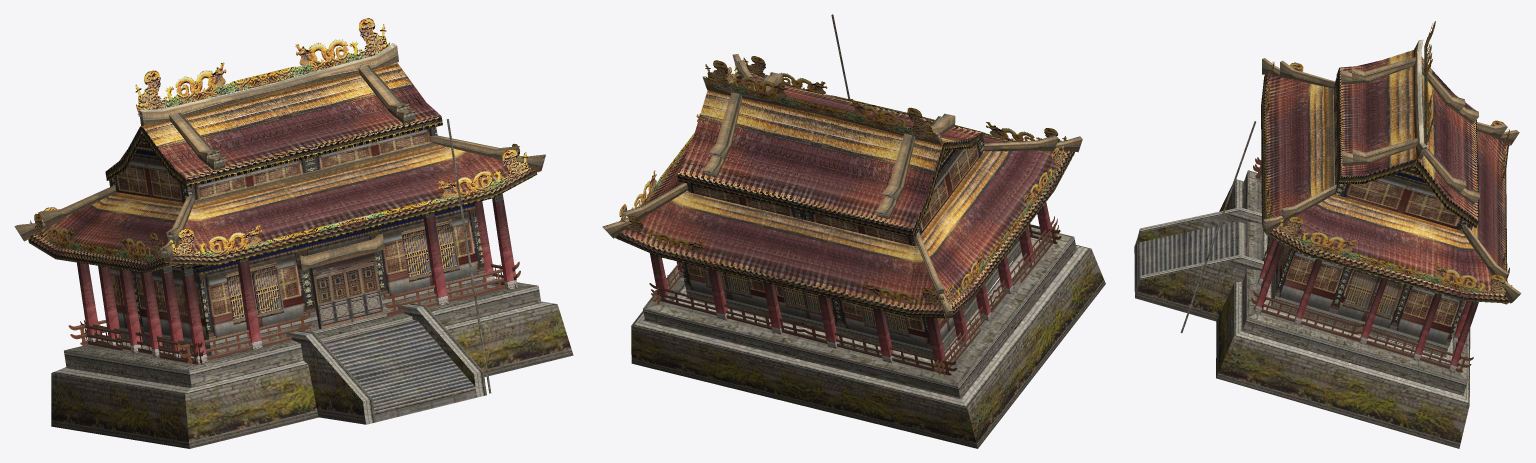
File: widebuilding.fbx
3 renders of one model, left to right at view 1: azimuth 30°, elevation 25°; view 2: azimuth 150°, elevation 25°; view 3: azimuth 270°, elevation 25°, orthographic. The views are drawn at different scales.
Visible parts, largest first — view 1: Object01; view 2: Object01; view 3: Object01.
Part boxes in pixels (x1,y1,x2,y2): Object01: (14,18,573,448); Object01: (602,14,1105,448); Object01: (1134,21,1521,448).
Bounding box in the file's own units: 25.18 × 25 × 21.4.
1 material, 1 textured.
